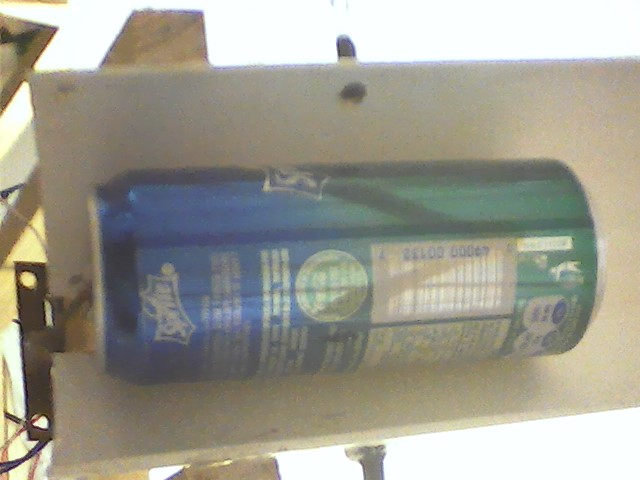lata: (81, 156, 615, 403)
